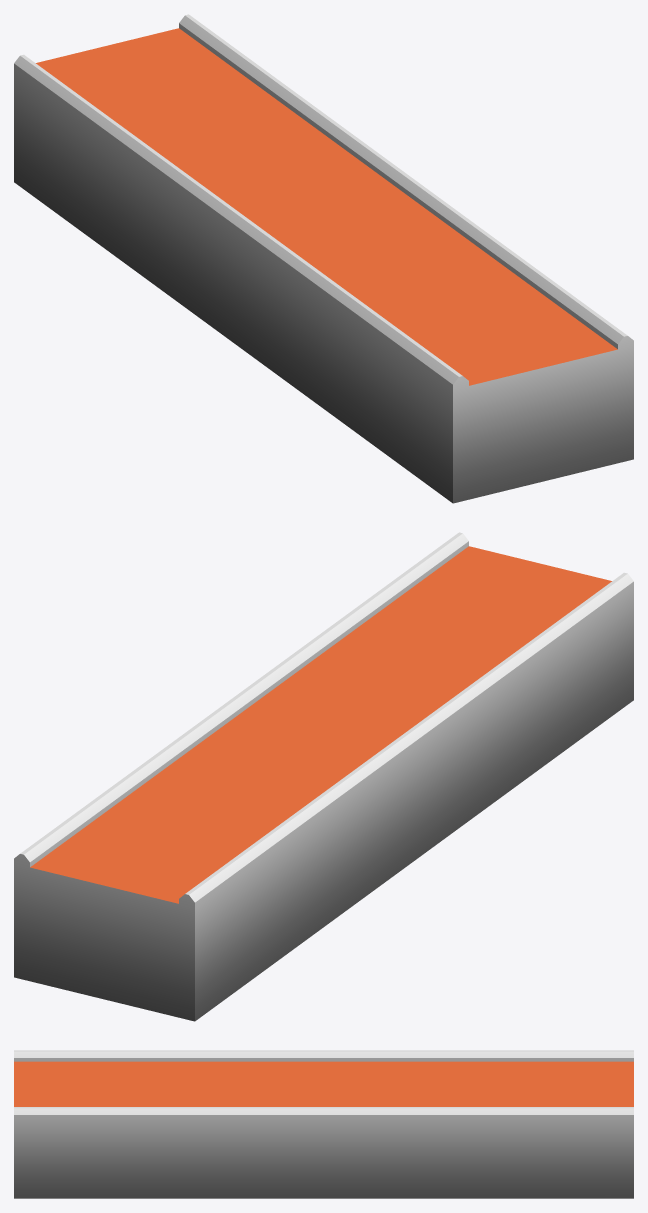
File: Straight_Pavement.fbx
The picture shows the model from 3 angles, top to bottom: view 1: azimuth 30°, elevation 25°; view 2: azimuth 150°, elevation 25°; view 3: azimuth 270°, elevation 25°; orthographic projection. The views are drawn at different scales.
Visible parts, largest first — view 1: Straight_Pavement; view 2: Straight_Pavement; view 3: Straight_Pavement.
Part boxes in pixels (bbox=[...]): Straight_Pavement: bbox=[14, 14, 633, 503]; Straight_Pavement: bbox=[14, 532, 633, 1021]; Straight_Pavement: bbox=[14, 1050, 633, 1198].
Size of the model in its own units: 80.74 by 53.36 by 339.
